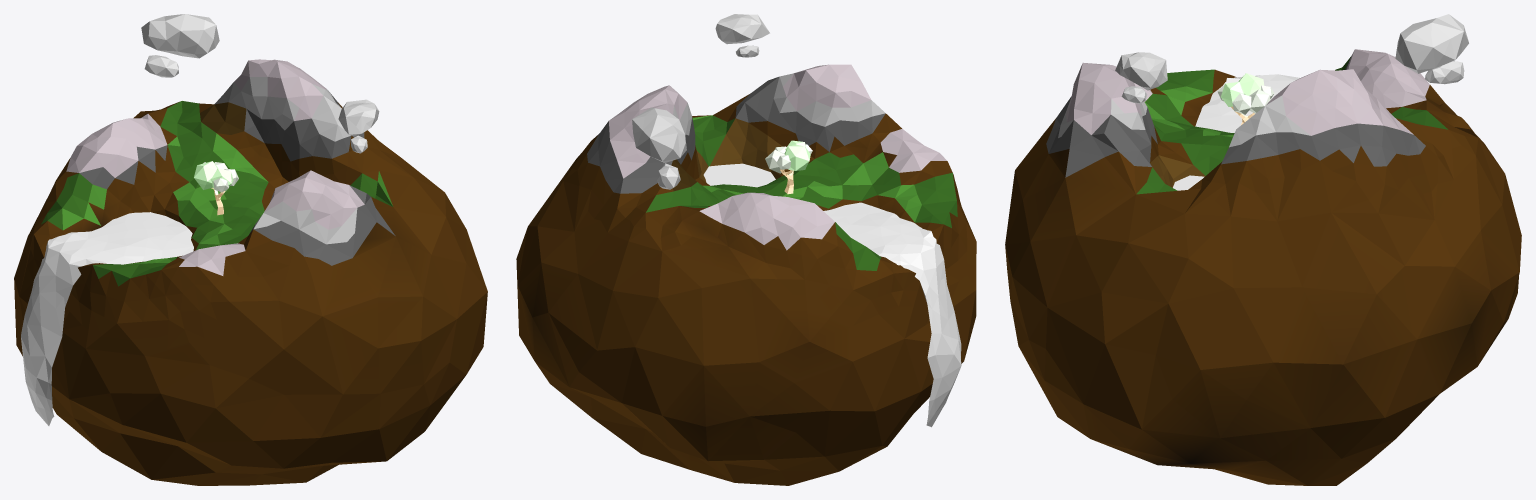
File: insel5.glb
3 views of the same model, side by side, from view 1: azimuth 30°, elevation 25°; view 2: azimuth 150°, elevation 25°; view 3: azimuth 270°, elevation 25° (orthographic). The views are drawn at different scales.
Parts seen in each view (by area): view 1: Island, Water, Cloud.002, Cloud.004, Cloud.001; view 2: Island, Water, Cloud.002, Cloud.004; view 3: Island, Cloud.002, Water, Cloud.004, Cloud.001.
Boxes of the visible parts, left/top/right/bottom form: Island: left=14, top=59, right=487, bottom=485; Water: left=21, top=212, right=193, bottom=425; Cloud.002: left=141, top=14, right=219, bottom=58; Cloud.004: left=338, top=99, right=379, bottom=136; Cloud.001: left=144, top=55, right=178, bottom=77; Island: left=516, top=64, right=976, bottom=485; Water: left=703, top=163, right=961, bottom=427; Cloud.002: left=632, top=107, right=686, bottom=162; Cloud.004: left=715, top=14, right=769, bottom=44; Island: left=1005, top=49, right=1521, bottom=485; Cloud.002: left=1395, top=14, right=1468, bottom=73; Water: left=1173, top=74, right=1299, bottom=190; Cloud.004: left=1115, top=52, right=1167, bottom=90; Cloud.001: left=1425, top=61, right=1464, bottom=84.
Bounding box in the file's own units: 20.36 × 18.59 × 19.76.
